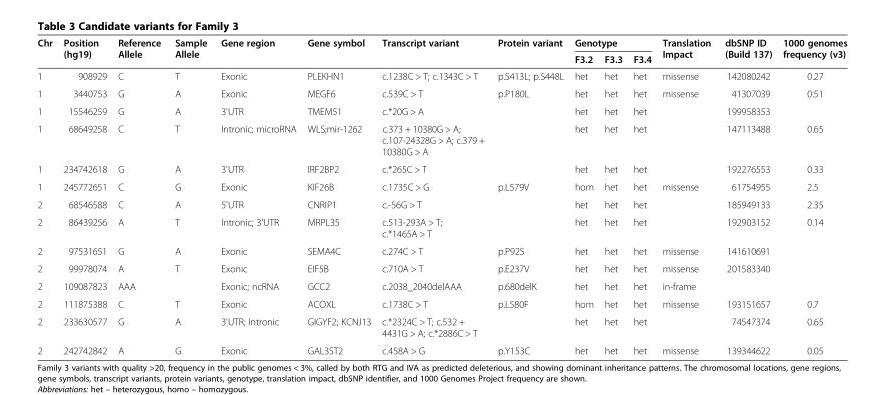table: (36, 36, 846, 355)
table column: (375, 36, 490, 355), (213, 36, 301, 355), (490, 36, 568, 355), (301, 36, 375, 355), (776, 36, 846, 355), (656, 36, 717, 355), (717, 36, 776, 355), (111, 36, 167, 355), (57, 36, 111, 355), (167, 36, 213, 355), (568, 36, 598, 355), (598, 36, 627, 355), (627, 36, 656, 355), (36, 36, 57, 355)
table column header: (36, 36, 846, 67)
table row: (36, 119, 846, 159), (36, 212, 846, 241), (36, 312, 846, 341), (36, 84, 846, 102), (36, 159, 846, 177), (36, 177, 846, 195), (36, 241, 846, 259), (36, 259, 846, 277), (36, 294, 846, 312), (36, 50, 846, 67), (36, 67, 846, 84), (36, 102, 846, 119), (36, 195, 846, 212), (36, 277, 846, 294), (36, 36, 846, 50), (36, 341, 846, 355)
table spanning cell: (375, 36, 490, 67), (213, 36, 301, 67), (490, 36, 568, 67), (301, 36, 375, 67), (776, 36, 846, 67), (656, 36, 717, 67), (717, 36, 776, 67), (111, 36, 167, 67), (57, 36, 111, 67), (167, 36, 213, 67), (568, 36, 656, 50), (36, 36, 57, 67)
